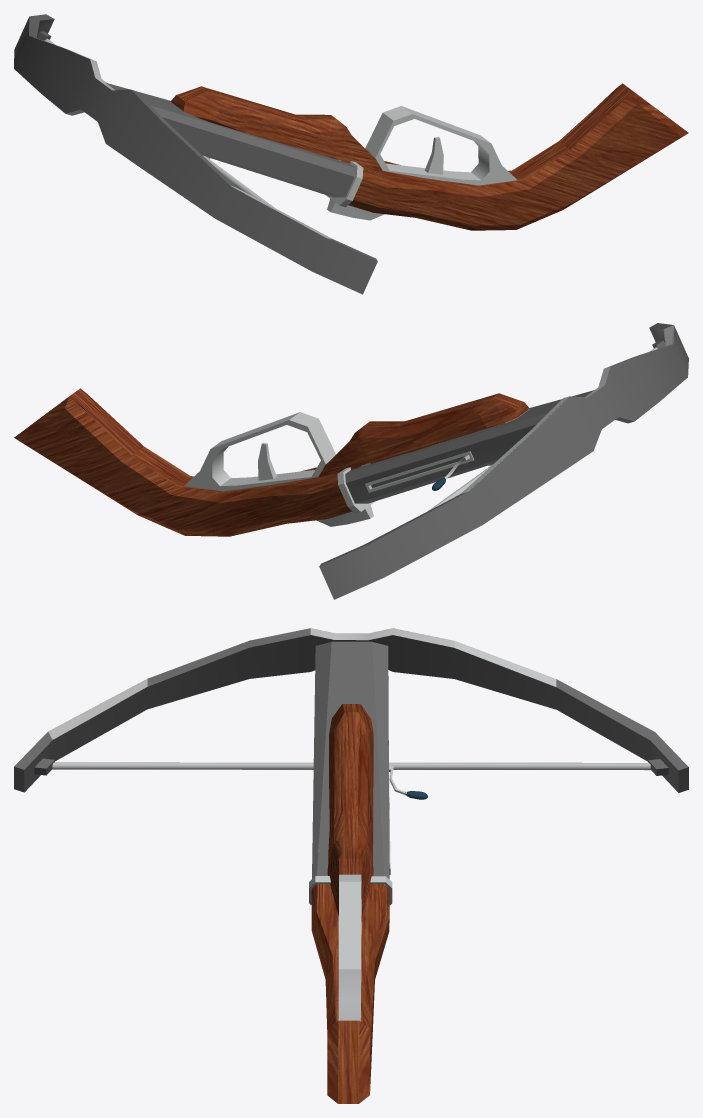
Rendered from crossbow.glb.
3 views of the same model, one above another, from view 1: azimuth 30°, elevation 25°; view 2: azimuth 150°, elevation 25°; view 3: azimuth 270°, elevation 25° (orthographic).
Visible parts, largest first — view 1: Crossbow; view 2: Crossbow; view 3: Crossbow.
Part boxes in pixels (<box>): Crossbow: <box>14,14,688,294</box>; Crossbow: <box>14,323,688,599</box>; Crossbow: <box>14,628,688,1103</box>.
Size of the model in its own units: 1.47 by 0.5831 by 1.43.
Materials: 1 (1 with a texture image).
